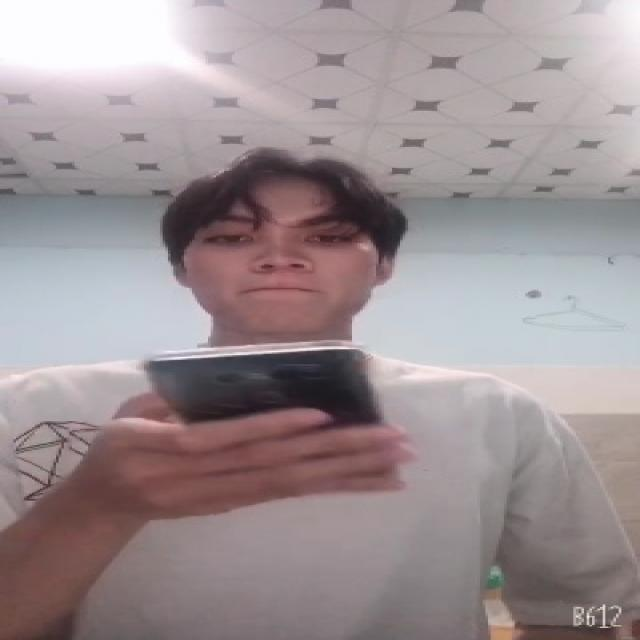Phone: (142, 345, 408, 495)
